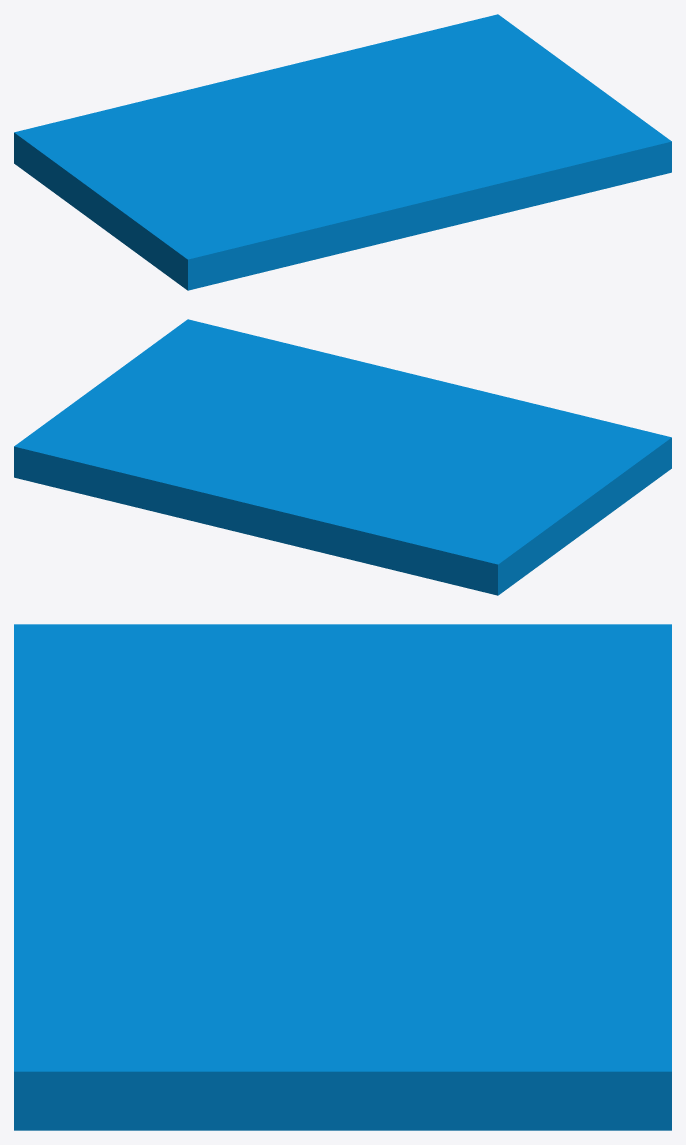
File: Jigsaw_Color_09.fbx
3 views of the same model, one above another, from view 1: azimuth 30°, elevation 25°; view 2: azimuth 150°, elevation 25°; view 3: azimuth 270°, elevation 25° (orthographic). The views are drawn at different scales.
Parts seen in each view (by area): view 1: Jigsaw_Color_09; view 2: Jigsaw_Color_09; view 3: Jigsaw_Color_09.
Part boxes in pixels (x1,y1,x2,y2): Jigsaw_Color_09: (14, 14, 671, 290); Jigsaw_Color_09: (14, 319, 671, 595); Jigsaw_Color_09: (14, 624, 671, 1130).
Size of the model in its own units: 32.69 by 2.01 by 20.33.
